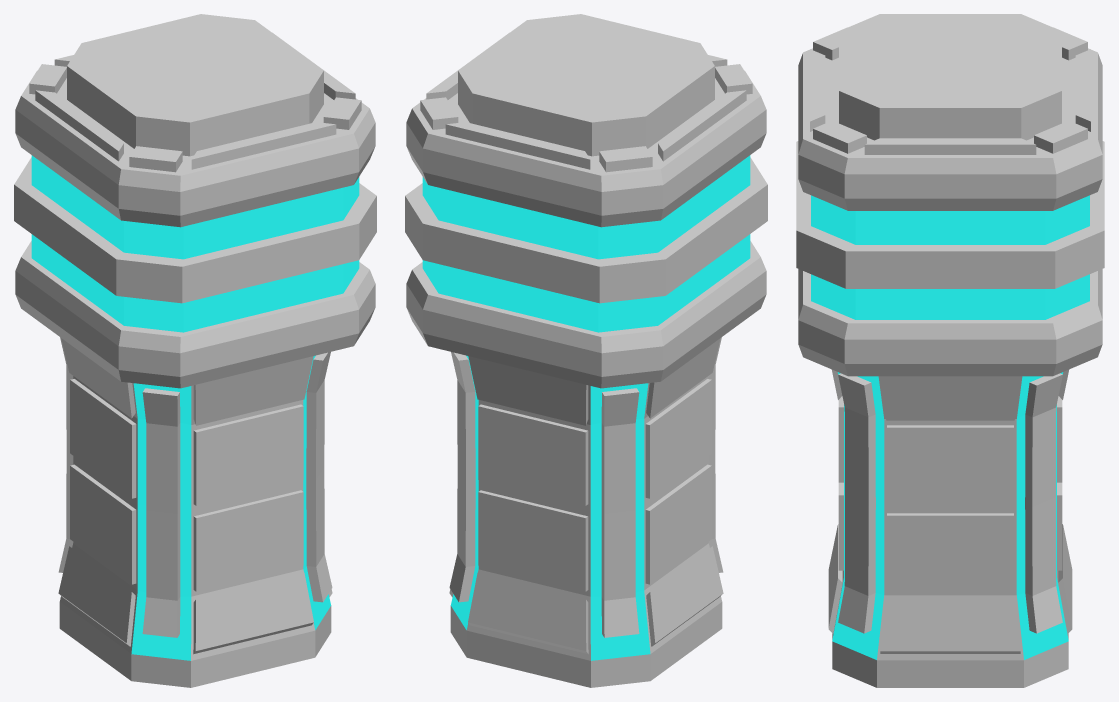
Rendered from tall-tower1.glb.
3 views of the same model, side by side, from view 1: azimuth 30°, elevation 25°; view 2: azimuth 150°, elevation 25°; view 3: azimuth 270°, elevation 25° (orthographic). The views are drawn at different scales.
Parts seen in each view (by area): view 1: Cube.028; view 2: Cube.028; view 3: Cube.028.
Part boxes in pixels (box(x1,y1,x2,y2)): Cube.028: box(14, 14, 376, 687); Cube.028: box(405, 14, 767, 687); Cube.028: box(796, 14, 1104, 687).
Bounding box in the file's own units: 19.18 × 39.55 × 19.18.
